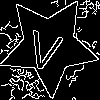V: (24, 20, 67, 73)
